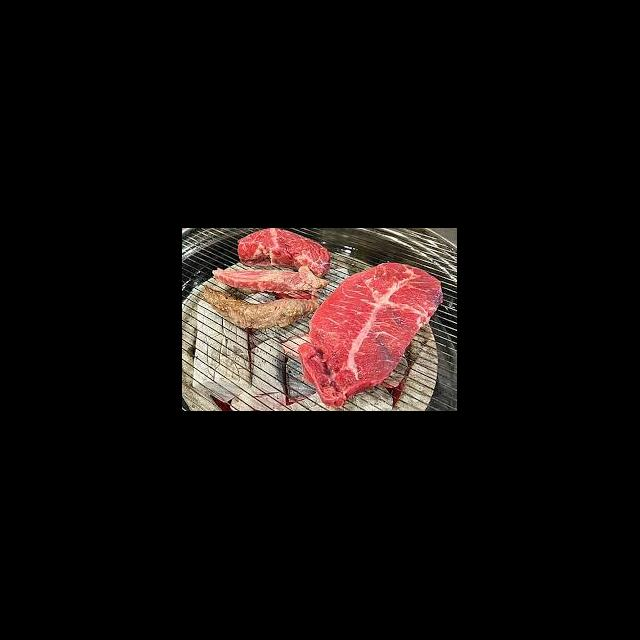beef: (301, 261, 444, 408), (237, 228, 329, 274)
